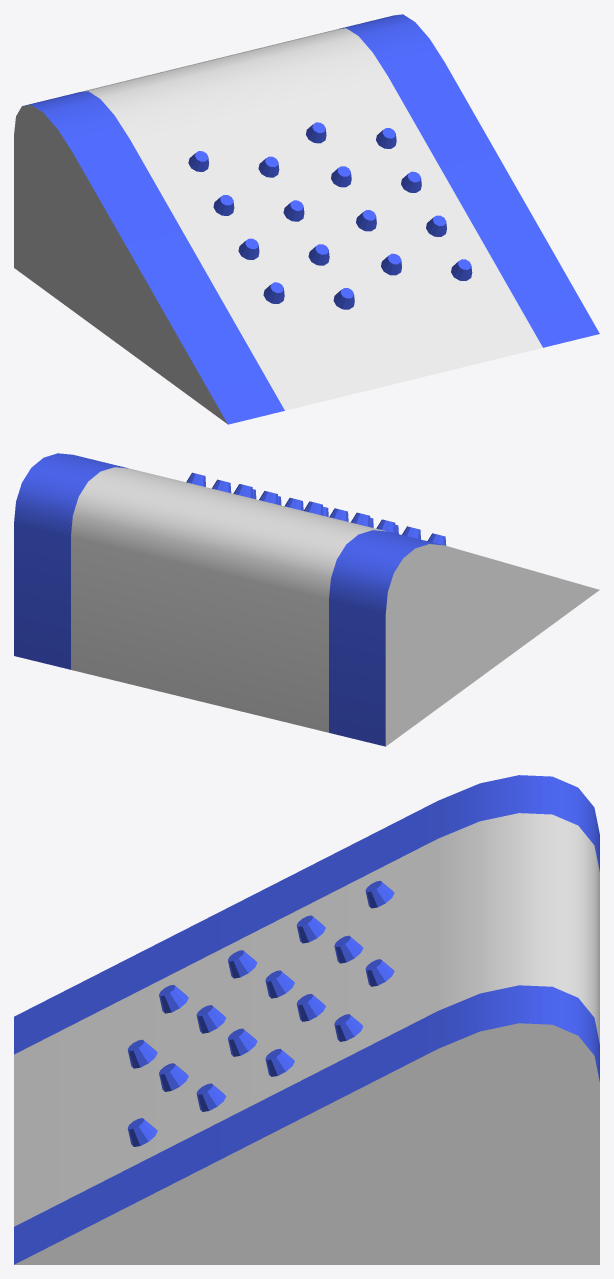
The model's file is Springboard Blue Spike.fbx.
3 views of the same model, one above another, from view 1: azimuth 30°, elevation 25°; view 2: azimuth 150°, elevation 25°; view 3: azimuth 270°, elevation 25° (orthographic). The views are drawn at different scales.
Parts seen in each view (by area): view 1: Springboard Blue Spike; view 2: Springboard Blue Spike; view 3: Springboard Blue Spike.
Part boxes in pixels (<box>): Springboard Blue Spike: <box>14,14,599,424</box>; Springboard Blue Spike: <box>14,453,599,746</box>; Springboard Blue Spike: <box>14,775,599,1264</box>.
Size of the model in its own units: 1.6 by 0.7242 by 1.59.
